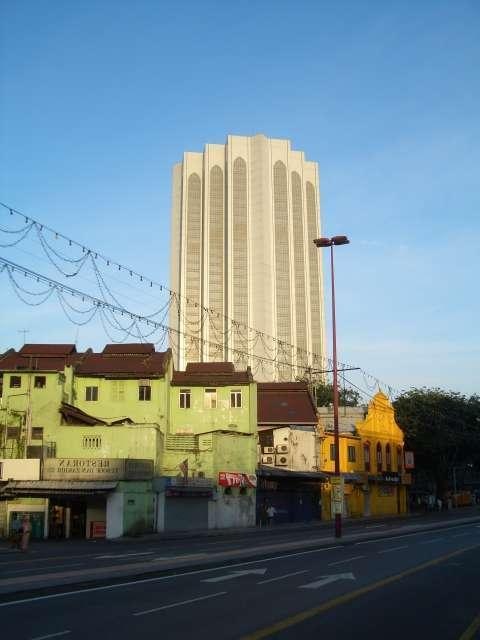building: (171, 131, 327, 402), (0, 342, 257, 475), (0, 458, 160, 547), (319, 395, 423, 526), (256, 379, 321, 471)
